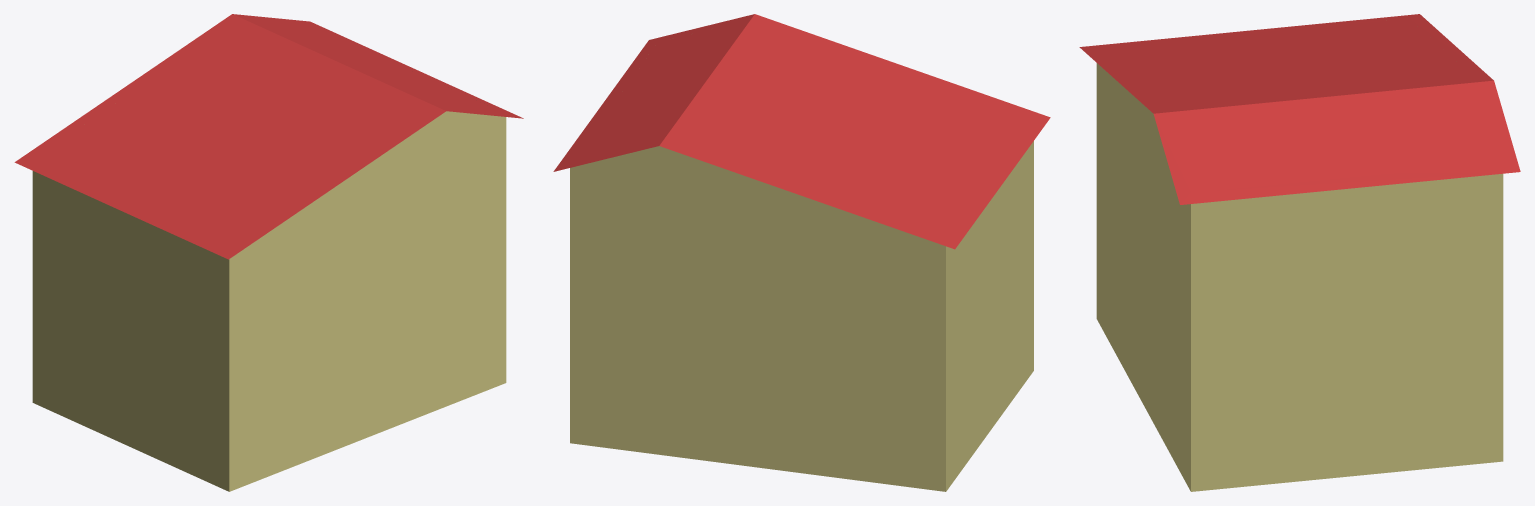
3 renders of one model, left to right at view 1: azimuth 30°, elevation 25°; view 2: azimuth 150°, elevation 25°; view 3: azimuth 270°, elevation 25°, orthographic. The views are drawn at different scales.
Size of the model in its own units: 8.92 by 7.62 by 6.41.
